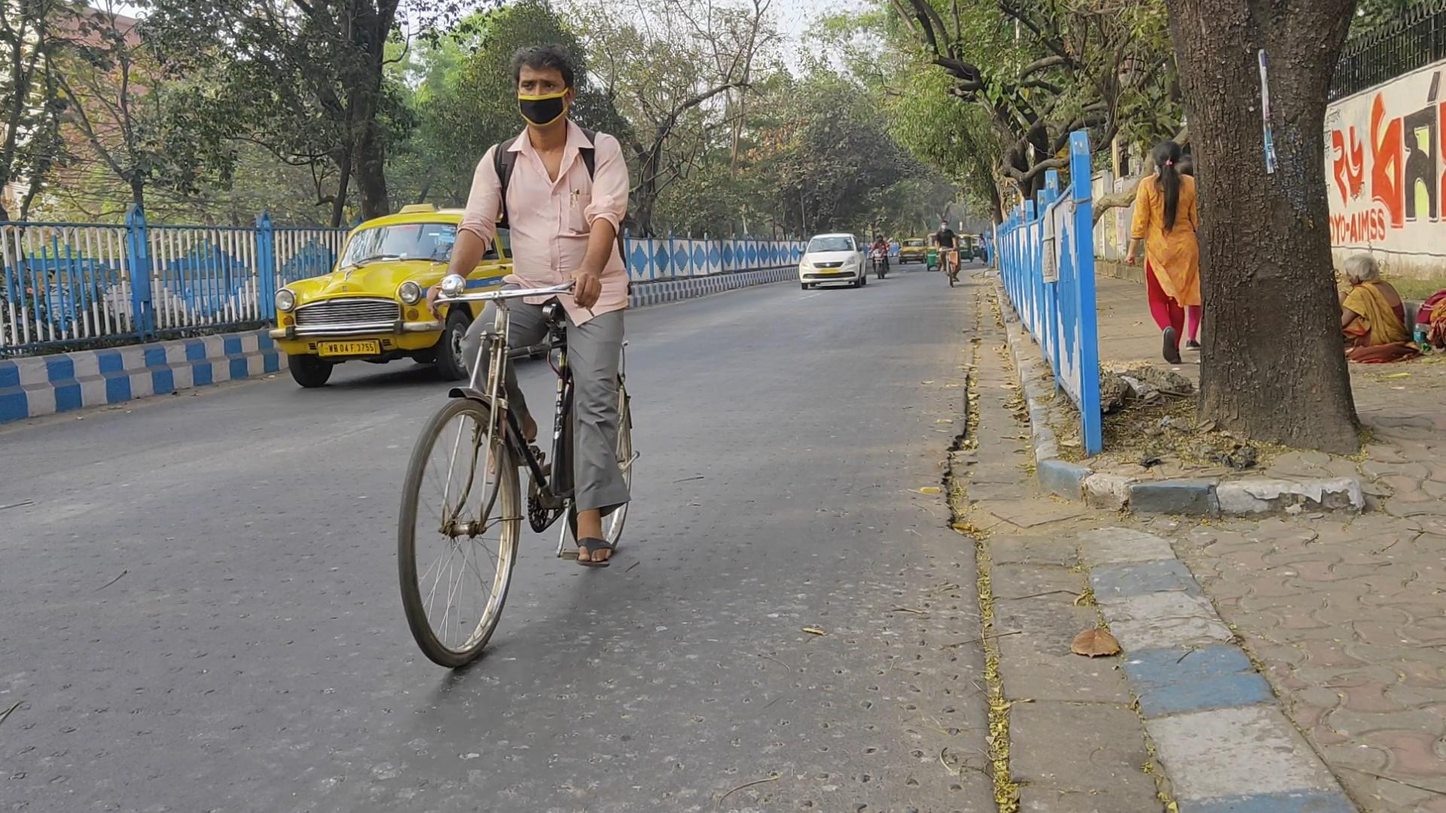Auto: (924, 233, 951, 273), (957, 233, 975, 264)
bike: (397, 45, 641, 668), (868, 232, 894, 281)
car: (271, 202, 513, 389), (796, 233, 869, 291), (898, 238, 926, 264)
